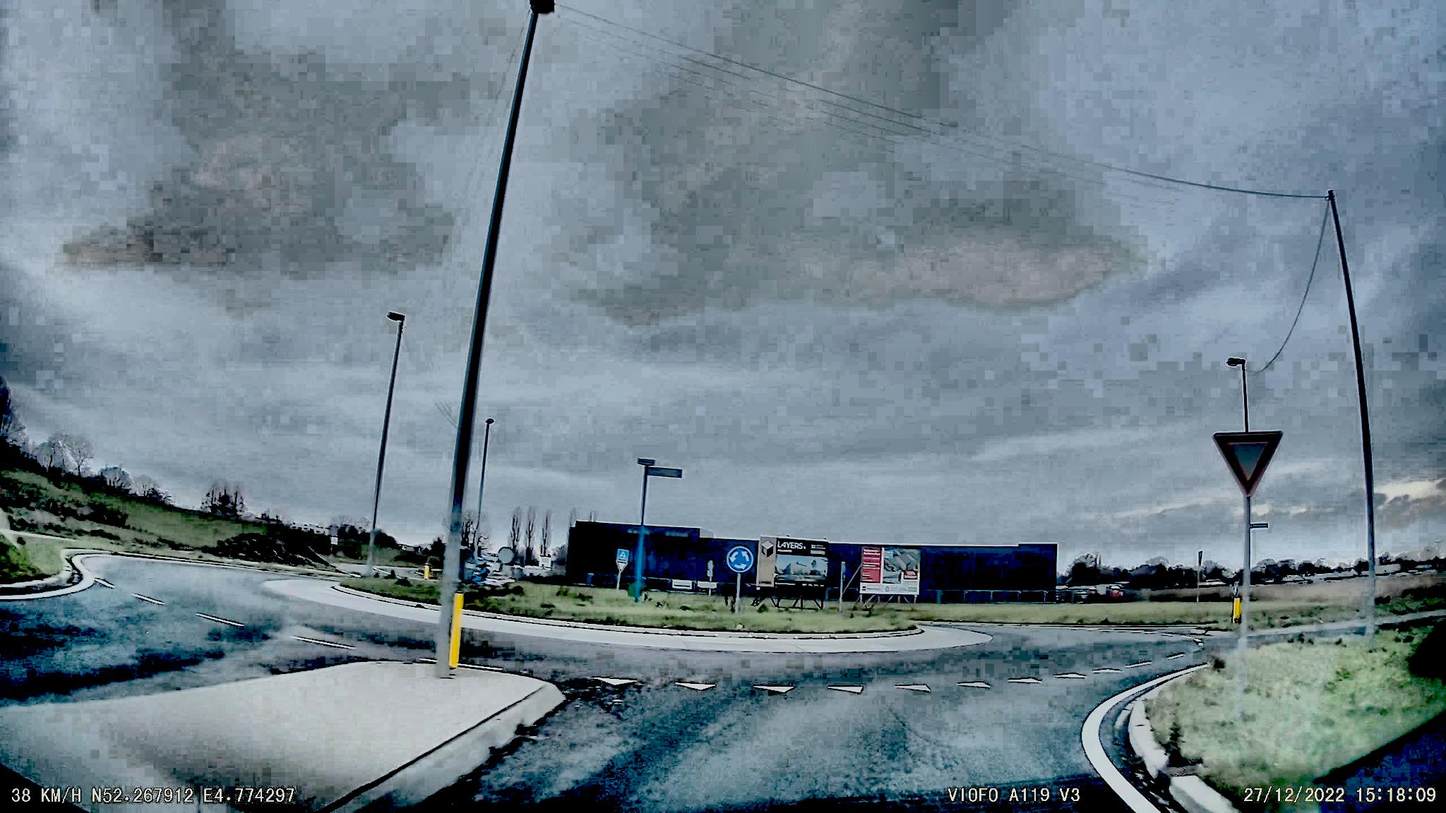Roads: (325, 627, 1200, 813), (0, 563, 443, 707)
